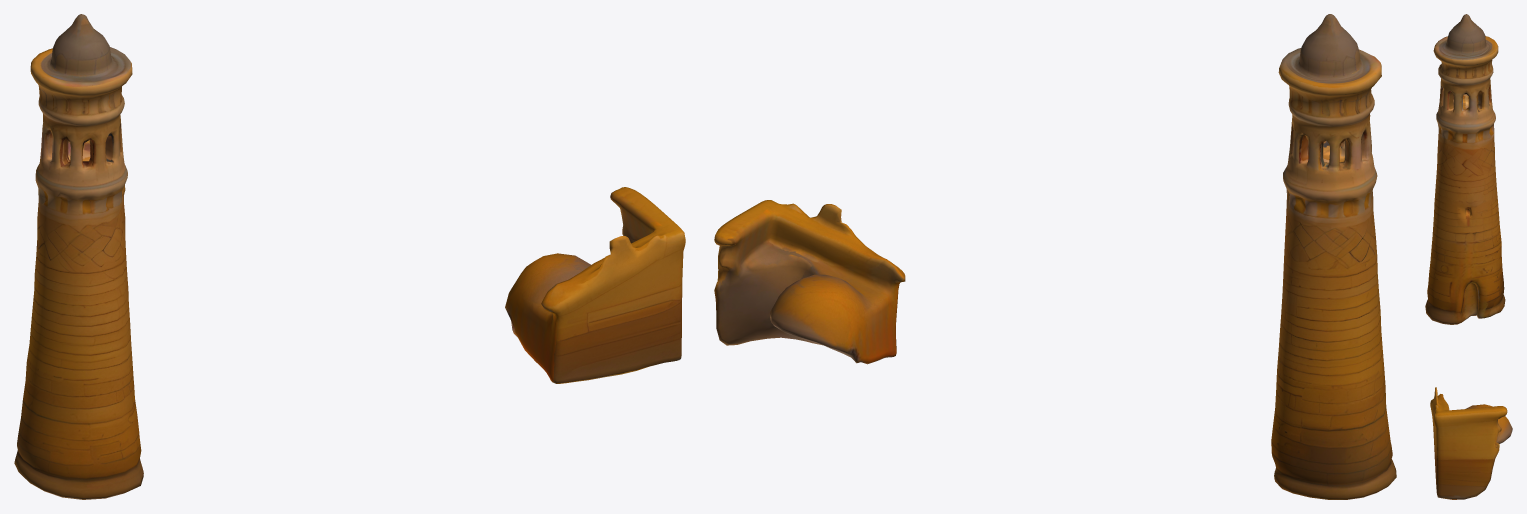
Rendered from Minora.fbx.
The picture shows the model from 3 angles, left to right: view 1: azimuth 30°, elevation 25°; view 2: azimuth 150°, elevation 25°; view 3: azimuth 270°, elevation 25°; orthographic projection. The views are drawn at different scales.
Visible parts, largest first — view 1: tripo_node_2c32fec5; view 2: tripo_node_2c32fec5; view 3: tripo_node_2c32fec5.
Part boxes in pixels (box(x1,y1,x2,y2)): tripo_node_2c32fec5: box(14, 14, 685, 499); tripo_node_2c32fec5: box(714, 14, 1396, 499); tripo_node_2c32fec5: box(1425, 14, 1512, 499).
Size of the model in its own units: 99.89 by 69.74 by 18.24.
Materials: 1 (1 with a texture image).
